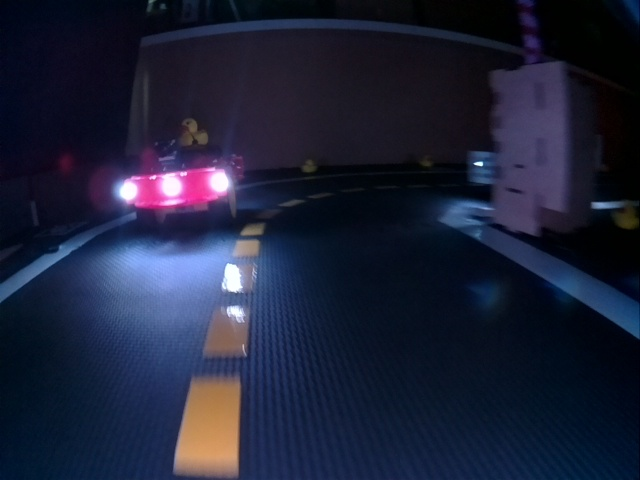Duckie: (180, 120, 207, 144), (612, 208, 638, 229), (303, 162, 314, 172), (423, 156, 432, 165)
Duckiebot: (123, 144, 242, 224)
QR code: (37, 222, 88, 235)
